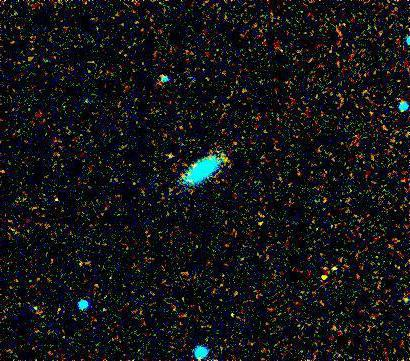star: (161, 142, 191, 172)
